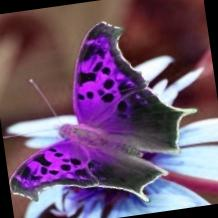butterfly: (9, 21, 198, 203)
